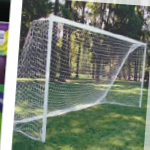goals: (15, 14, 146, 144)
